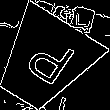P_SW: (13, 30, 75, 93)
